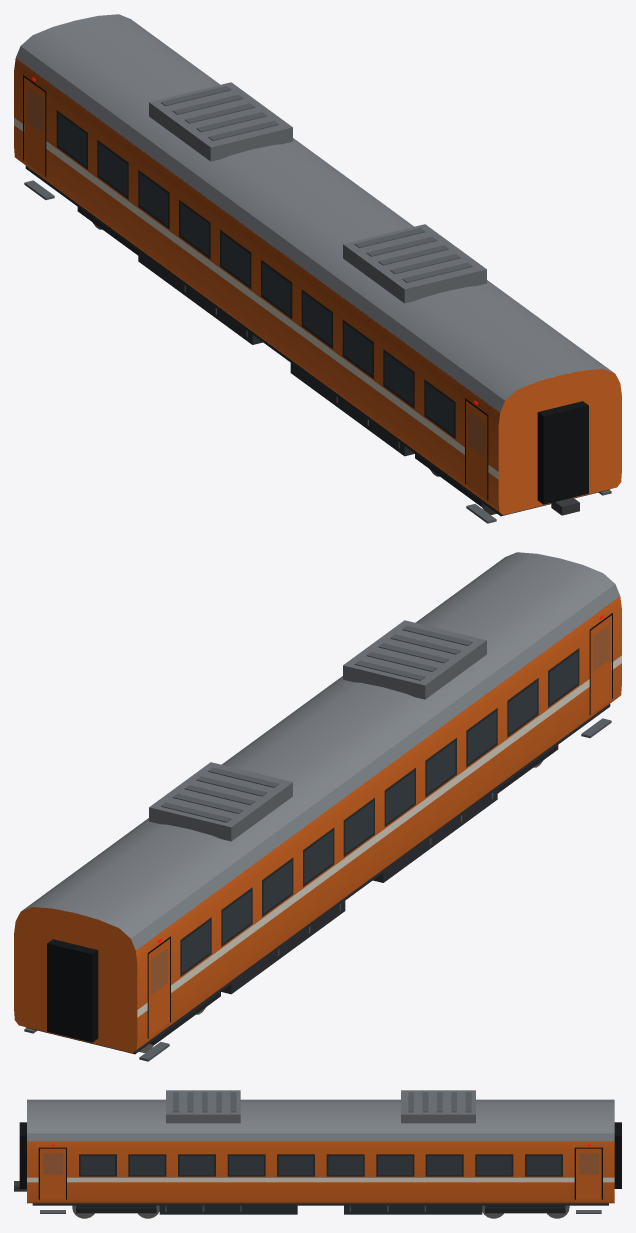
File: chukuang-middle.glb
3 renders of one model, top to bottom at view 1: azimuth 30°, elevation 25°; view 2: azimuth 150°, elevation 25°; view 3: azimuth 270°, elevation 25°, orthographic. The views are drawn at different scales.
Parts seen in each view (by area): view 1: ChuKuang_Middle; view 2: ChuKuang_Middle; view 3: ChuKuang_Middle.
Part boxes in pixels (left/top/right/bottom): ChuKuang_Middle: left=14, top=14, right=621, bottom=523; ChuKuang_Middle: left=14, top=552, right=621, bottom=1061; ChuKuang_Middle: left=14, top=1090, right=621, bottom=1218.
Bounding box in the file's own units: 3.08 × 4.17 × 21.1.
